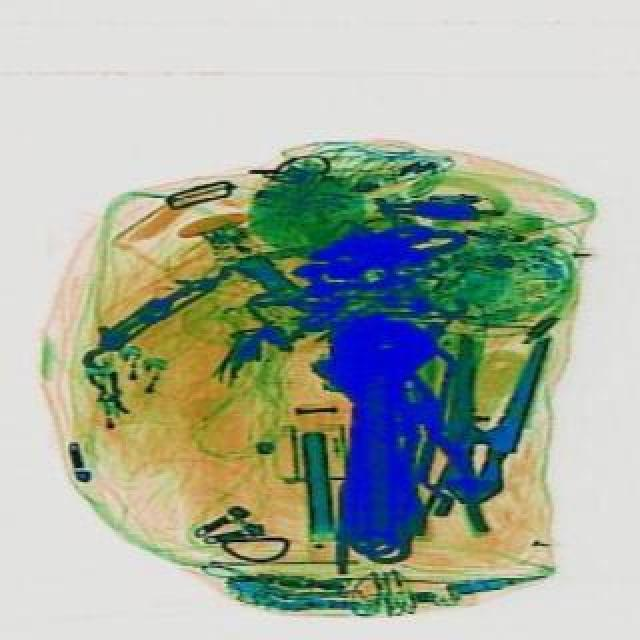wrench: (416, 316, 548, 516)
